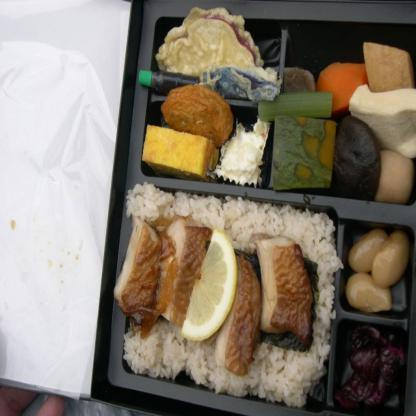lemon: (182, 226, 239, 342)
